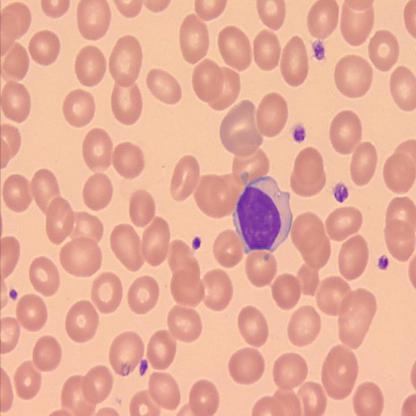Atypical lymphocyte: (232, 173, 295, 258)
